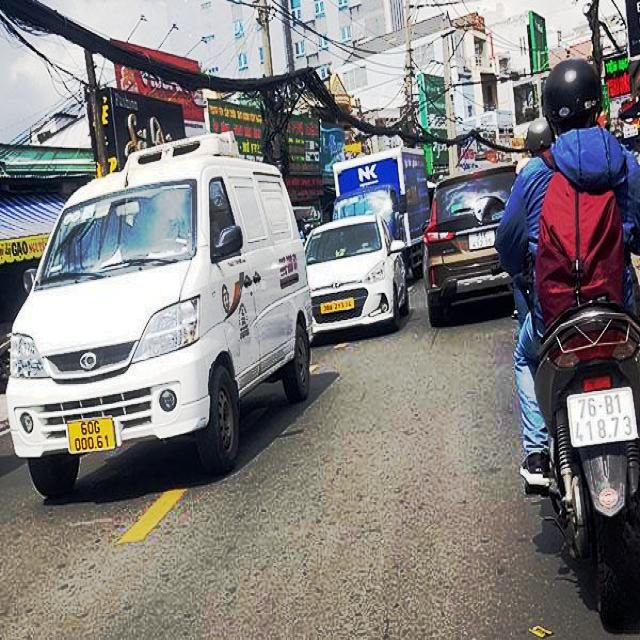license_plate: (568, 388, 639, 448), (69, 418, 118, 457)
